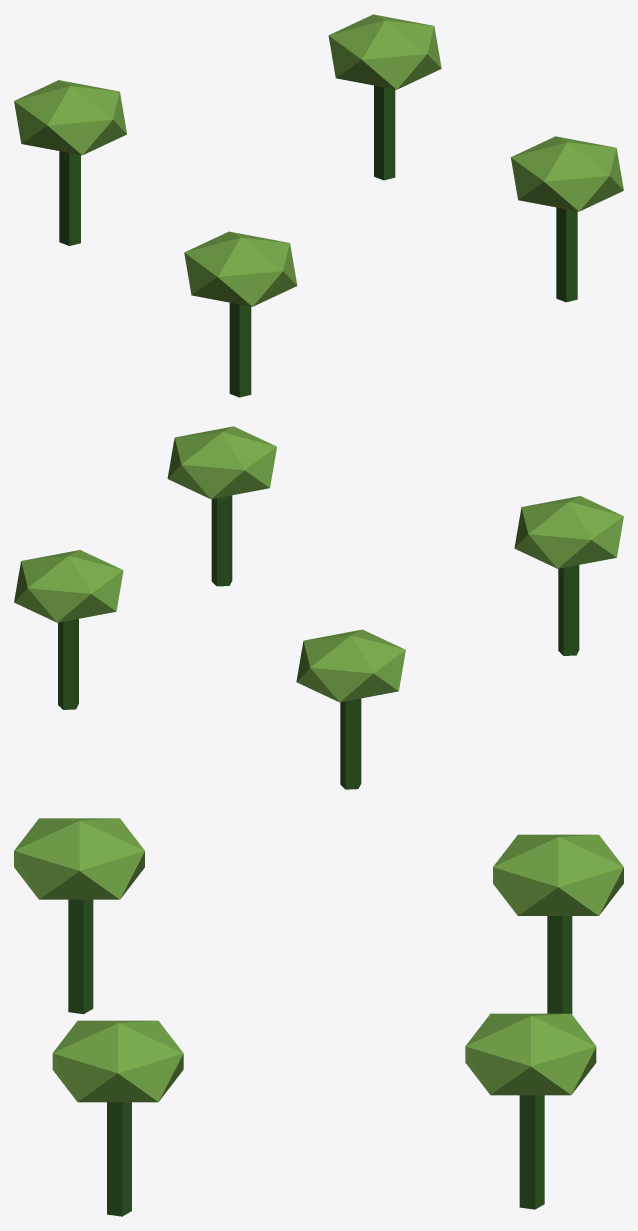
File: crop_tomato_young.glb
3 views of the same model, one above another, from view 1: azimuth 30°, elevation 25°; view 2: azimuth 150°, elevation 25°; view 3: azimuth 270°, elevation 25° (orthographic). The views are drawn at different scales.
Visible parts, largest first — view 1: crop_tomato_young; view 2: crop_tomato_young; view 3: crop_tomato_young.
Boxes of the visible parts, x1,y1,x2,y2 form: crop_tomato_young: [14, 14, 623, 397]; crop_tomato_young: [14, 426, 623, 789]; crop_tomato_young: [14, 818, 623, 1216].
Size of the model in its own units: 1.12 by 0.377 by 1.11.
